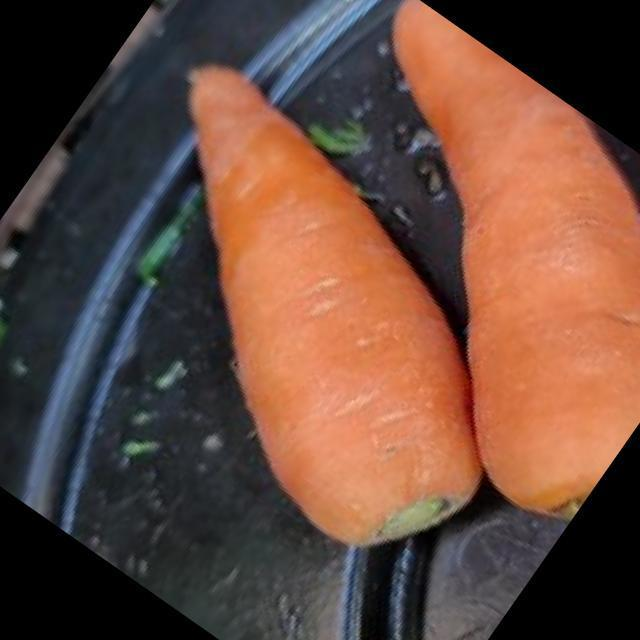Carrot: (191, 68, 480, 544), (395, 2, 640, 512)
